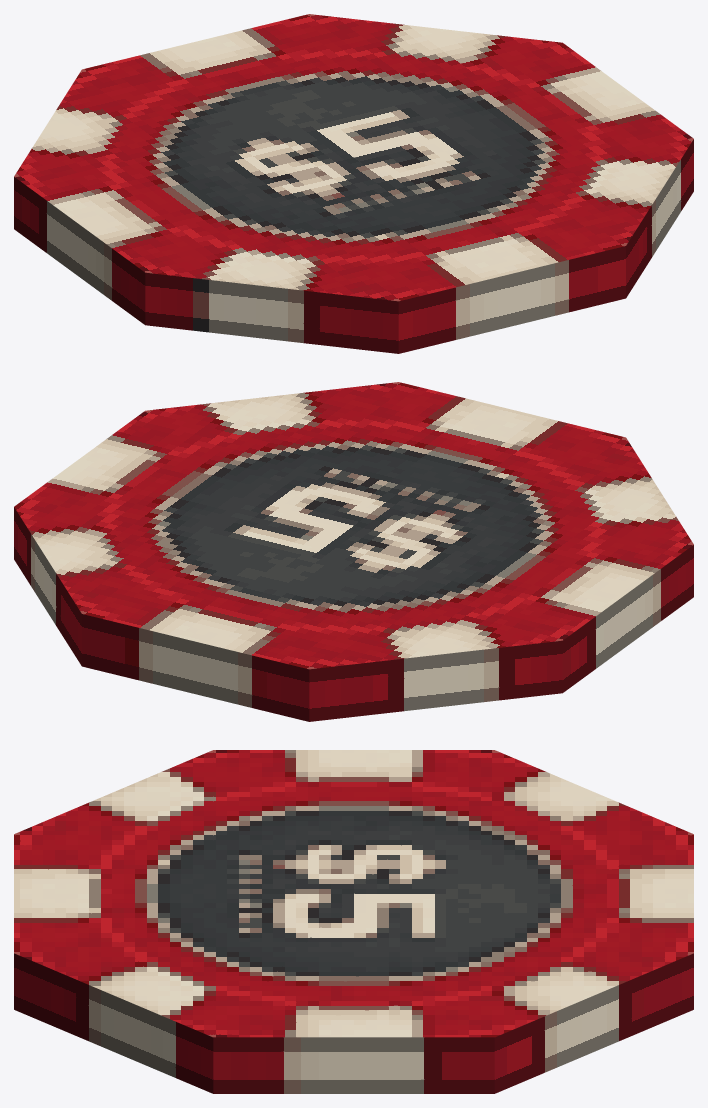
File: chip_5.glb
3 views of the same model, one above another, from view 1: azimuth 30°, elevation 25°; view 2: azimuth 150°, elevation 25°; view 3: azimuth 270°, elevation 25° (orthographic). The views are drawn at different scales.
Visible parts, largest first — view 1: chip_5; view 2: chip_5; view 3: chip_5.
Boxes of the visible parts, <box> form: chip_5: <box>14,14,693,353</box>; chip_5: <box>14,382,693,721</box>; chip_5: <box>14,750,693,1093</box>.
Bounding box in the file's own units: 0.036 × 0.0033 × 0.036.
Materials: 1 (1 with a texture image).
